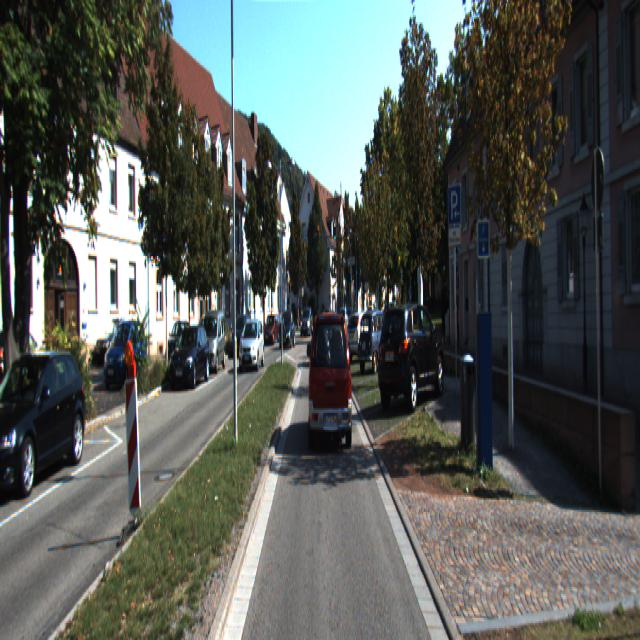Car: (0, 348, 89, 504), (376, 300, 446, 410), (310, 312, 354, 453), (102, 319, 146, 389), (357, 307, 398, 376), (169, 323, 210, 392), (94, 317, 141, 368), (345, 310, 382, 361), (198, 310, 226, 376), (239, 316, 265, 372), (230, 312, 252, 357), (261, 314, 282, 346), (280, 310, 296, 349), (301, 307, 313, 336)
